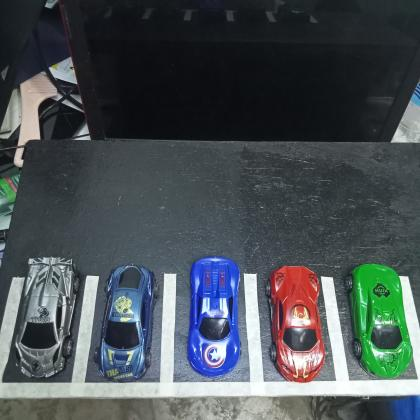Car: (345, 263, 413, 379), (16, 256, 78, 380), (96, 264, 158, 383), (267, 265, 325, 382), (186, 256, 241, 377)
